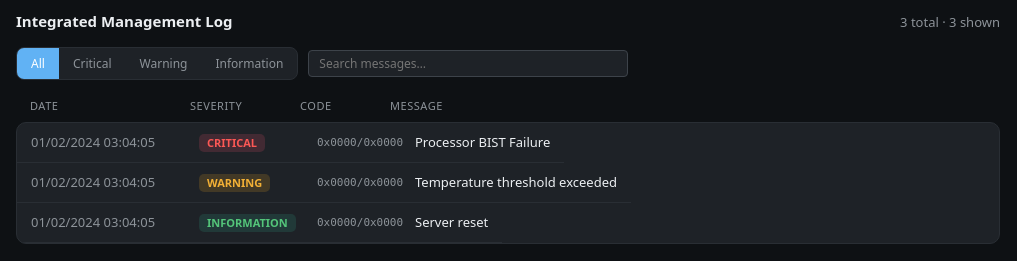
Test: ImlTab filtering (worker-backed) › filters to critical only
Expected: the text "Processor BIST Failure" is shown, left=415, top=133, right=550, bottom=152
Click the button "Critical" at (92, 64), box left=59, top=48, right=126, bottom=79
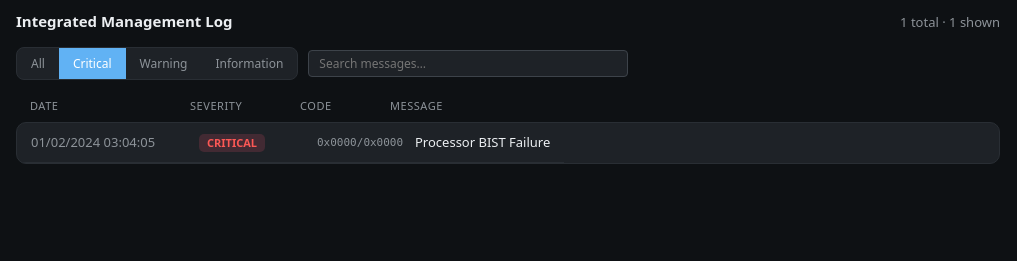
Expected: the text "Processor BIST Failure" is shown, left=415, top=133, right=550, bottom=152
Now the text "Server reset" is gone
Now the text "threshold exceeded" is gone
